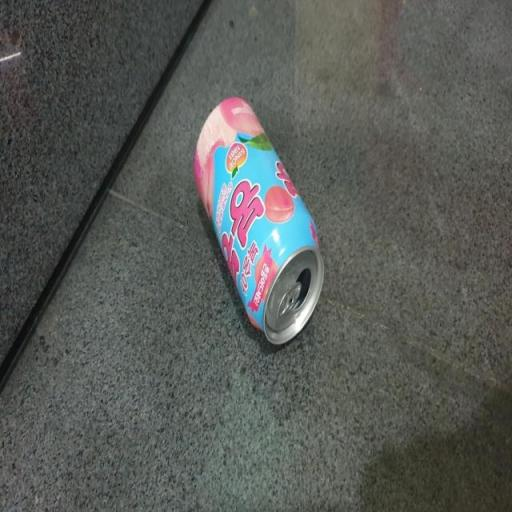metal: (185, 74, 329, 356)
